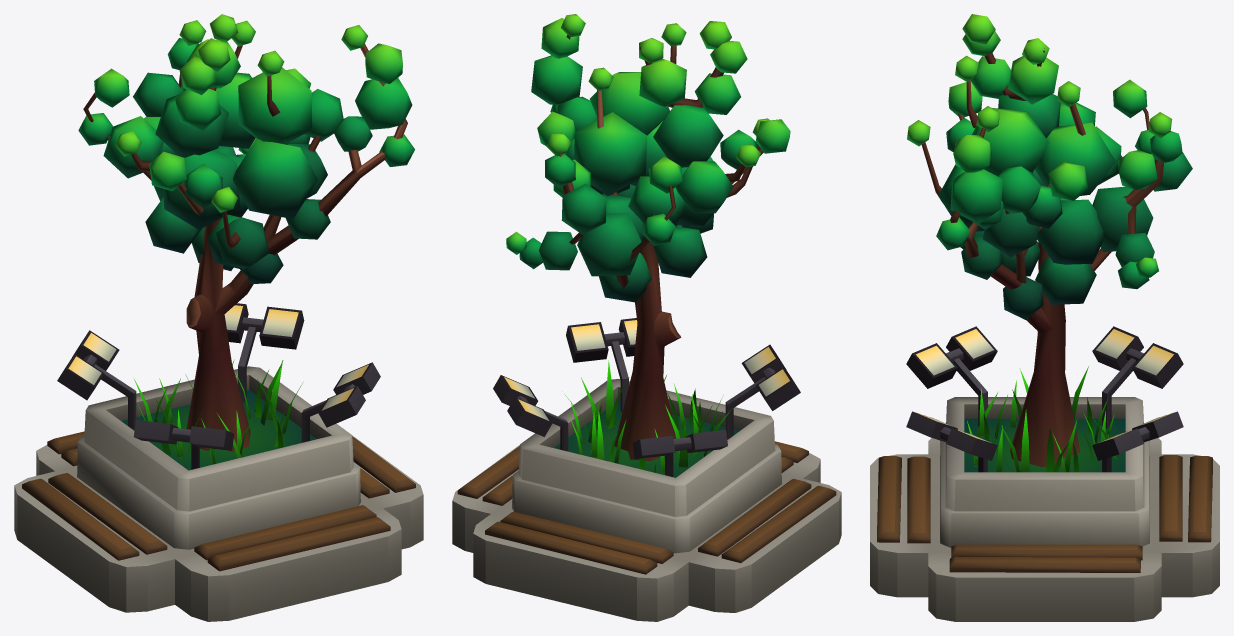
File: Bench_2E.fbx
The picture shows the model from 3 angles, left to right: view 1: azimuth 30°, elevation 25°; view 2: azimuth 150°, elevation 25°; view 3: azimuth 270°, elevation 25°; orthographic projection. The views are drawn at different scales.
Parts seen in each view (by area): view 1: Bench_2E, Bench_2E_Tree, Bench_2E_Lights; view 2: Bench_2E, Bench_2E_Tree, Bench_2E_Lights; view 3: Bench_2E, Bench_2E_Tree, Bench_2E_Lights.
Part boxes in pixels (x1,y1,x2,y2): Bench_2E: (14, 359, 423, 621); Bench_2E_Tree: (78, 14, 414, 451); Bench_2E_Lights: (57, 303, 380, 469); Bench_2E: (452, 360, 841, 621); Bench_2E_Tree: (506, 14, 790, 461); Bench_2E_Lights: (493, 318, 800, 476); Bench_2E: (870, 366, 1219, 621); Bench_2E_Tree: (907, 14, 1192, 466); Bench_2E_Lights: (906, 326, 1183, 472).
Size of the model in its own units: 5 by 8.1 by 5.
